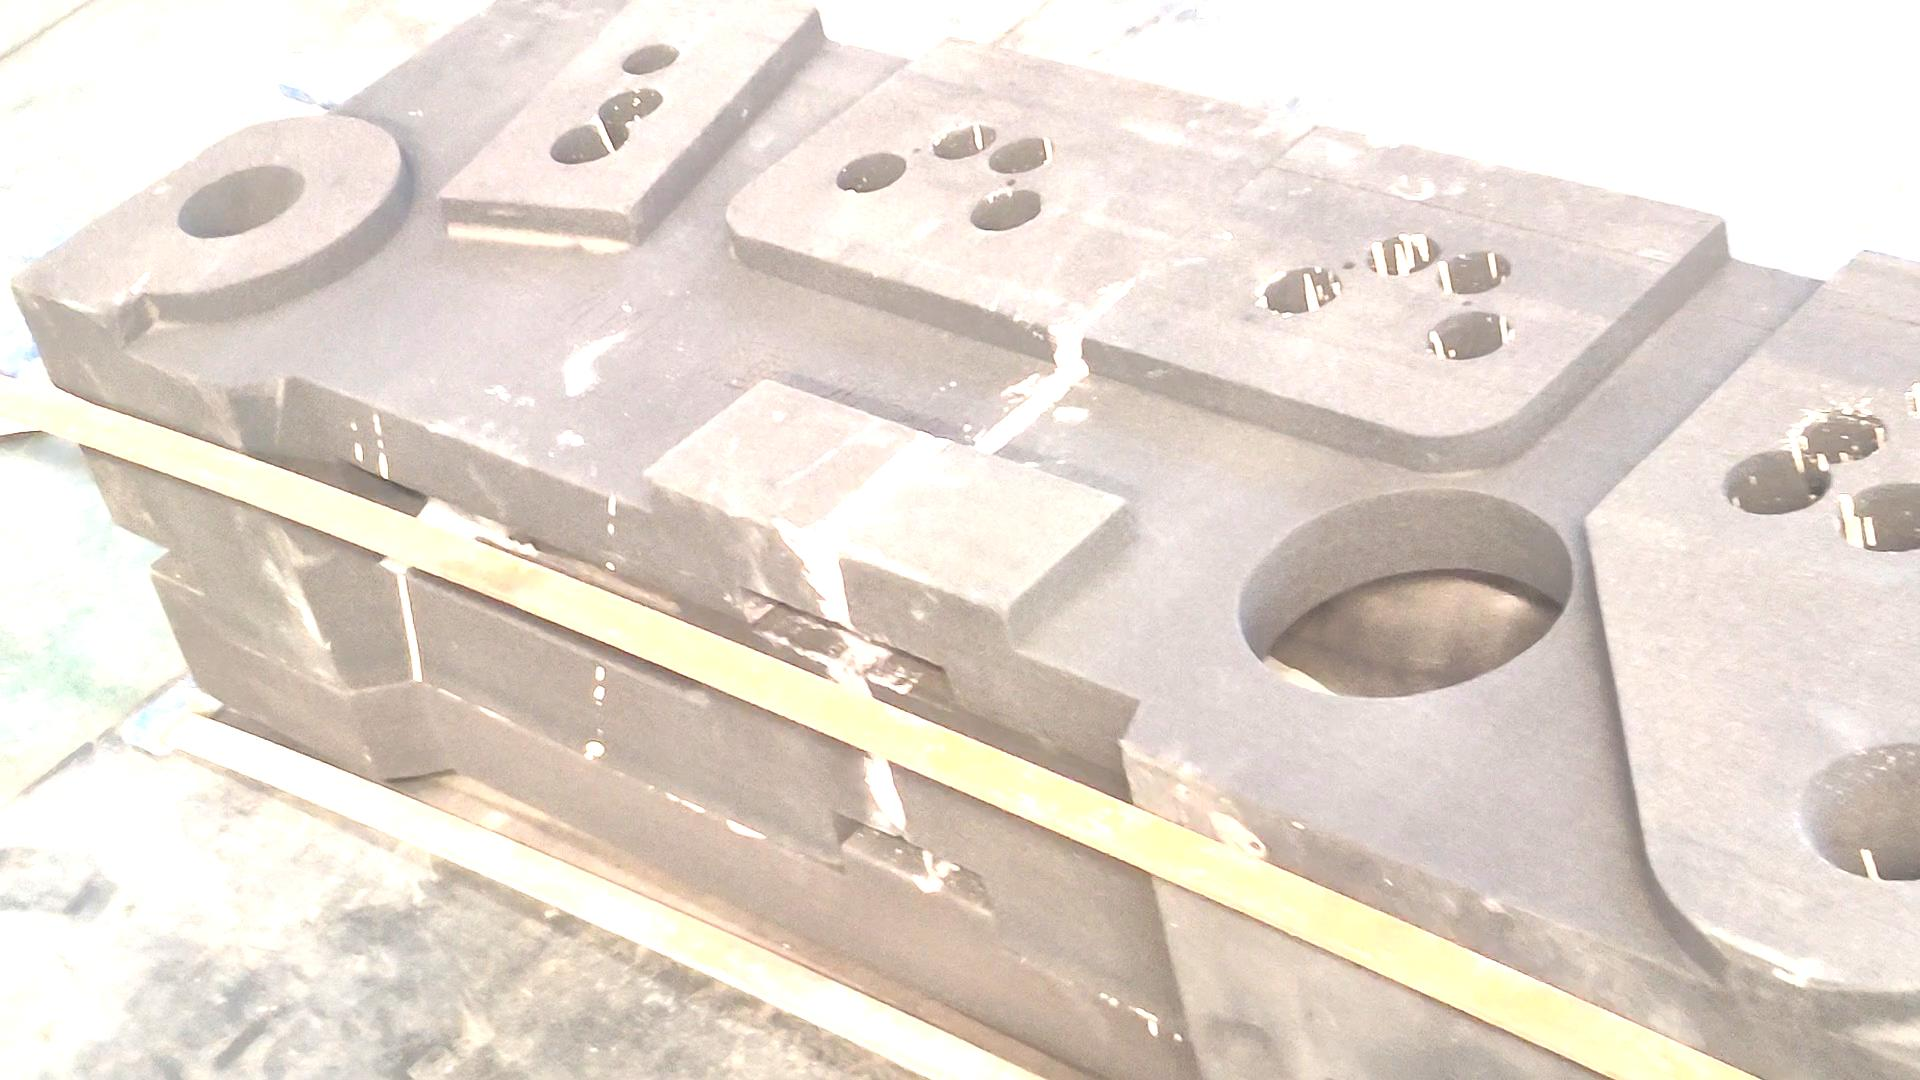pouring hole: (1799, 740, 1920, 882), (175, 166, 306, 237)
